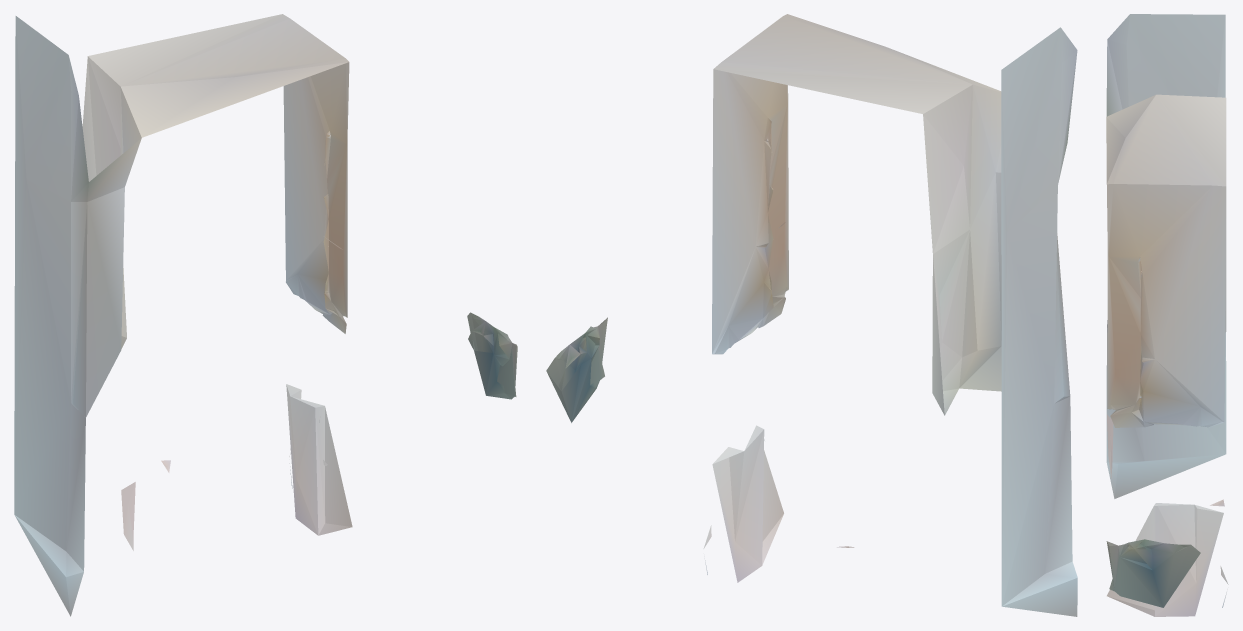
3 renders of one model, left to right at view 1: azimuth 30°, elevation 25°; view 2: azimuth 150°, elevation 25°; view 3: azimuth 270°, elevation 25°, orthographic. The views are drawn at different scales.
Bounding box in the file's own units: 7.6 × 9 × 2.04.
